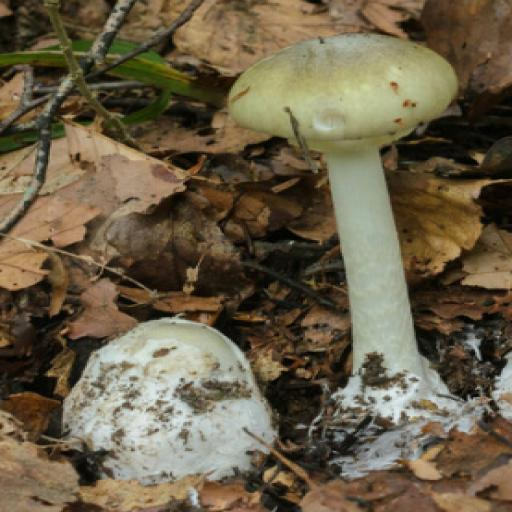Death Cap: (219, 9, 512, 468), (58, 290, 297, 512)
